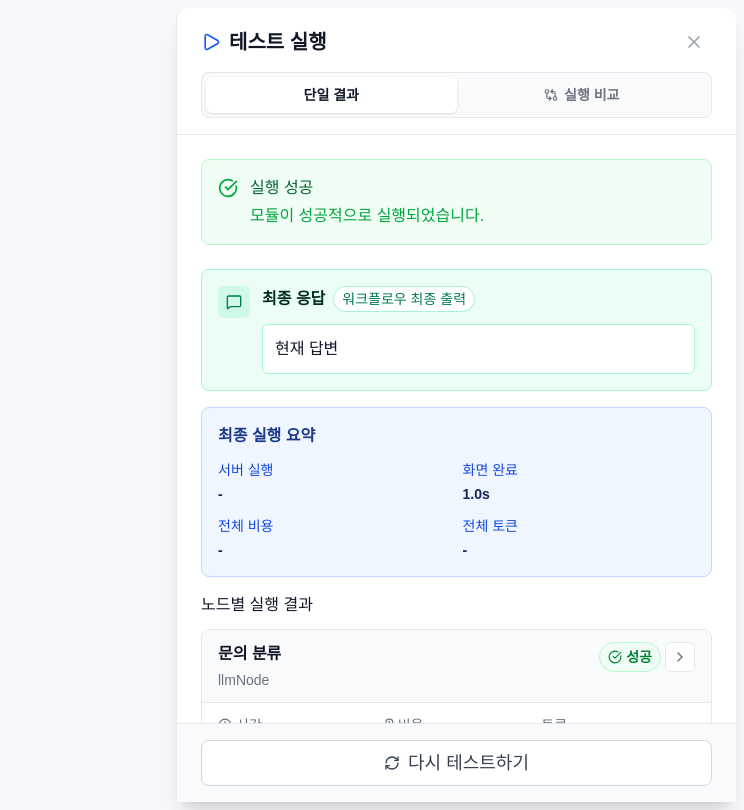
Test: TestSidebar execution comparison › 단일 결과로 전환해도 이전 실행 비교 분석을 유지한다
Step 1. Click the button "실행 비교" → (582, 95), box [456,77,707,113]
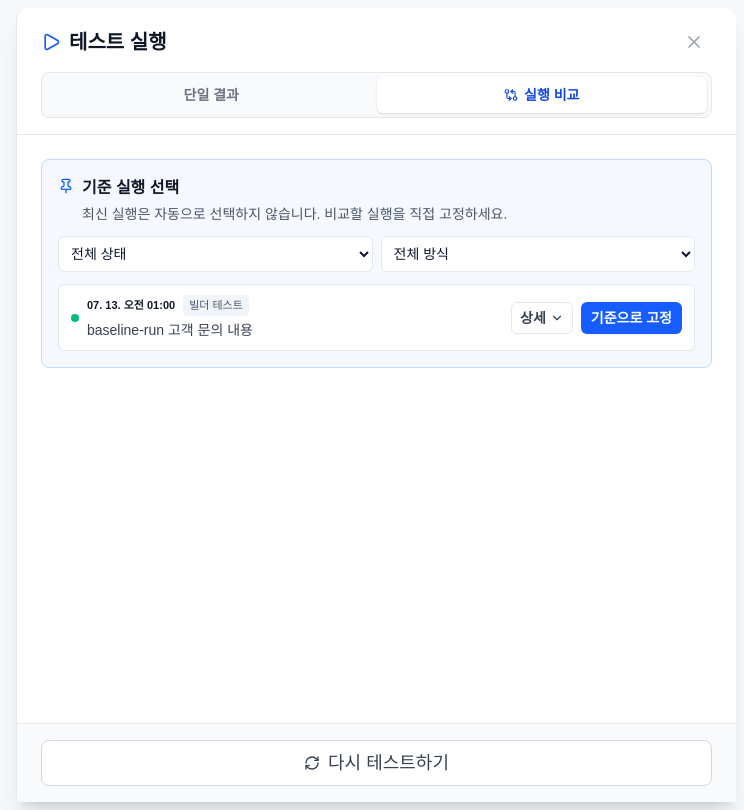
Step 2. Click the button "기준으로 고정" → (631, 318), box [581,302,682,334]
(page scrolled)
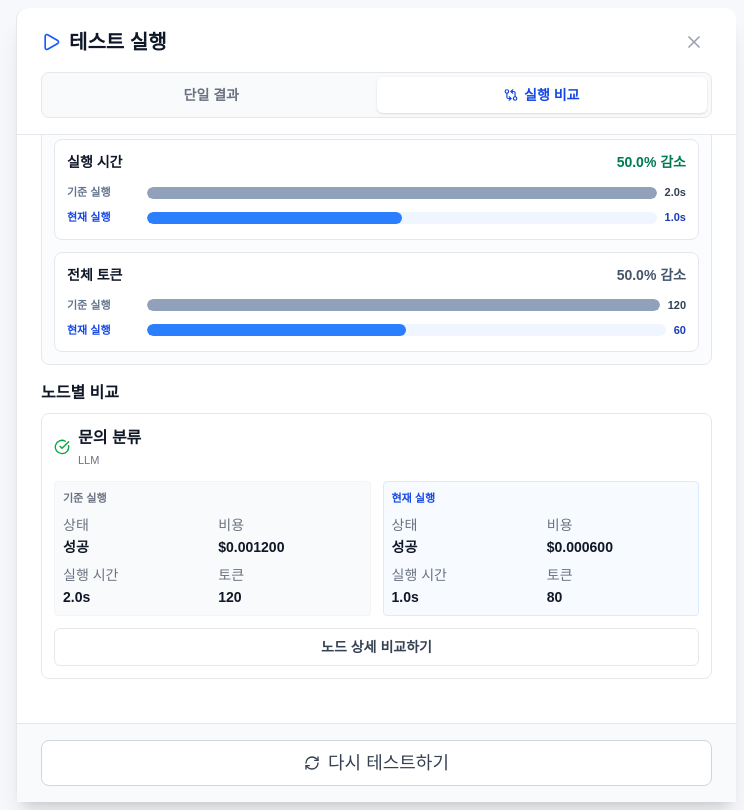
Expected: the button with aria-label "문의 분류 노드 상세 비교하기" is shown
Step 3. Click the button with aria-label "문의 분류 노드 상세 비교하기" → (376, 647), box [54,628,699,666]
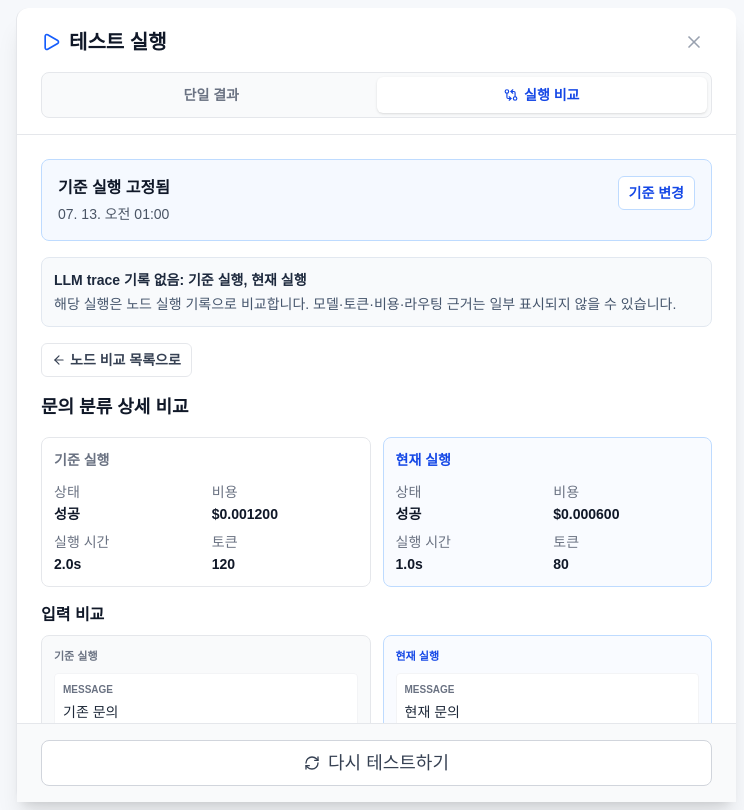
Expected: the heading "문의 분류 상세 비교" is shown, [41,397,188,417]
Step 4. Click the button "단일 결과" → (211, 95), box [46,77,376,113]
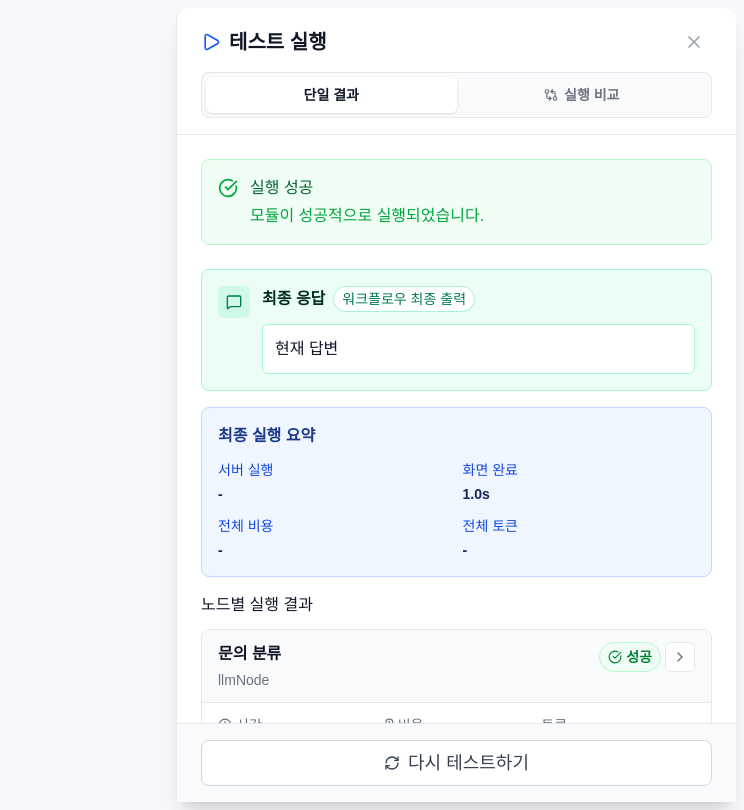
Step 5. Click the button "실행 비교" → (582, 95), box [456,77,707,113]
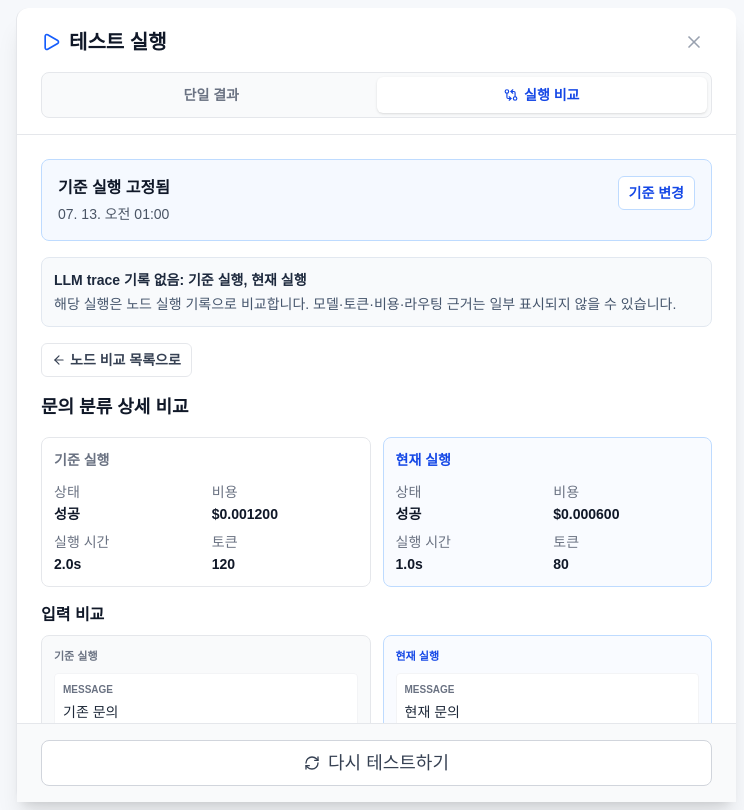
Expected: the heading "문의 분류 상세 비교" is shown, [41,397,188,417]
